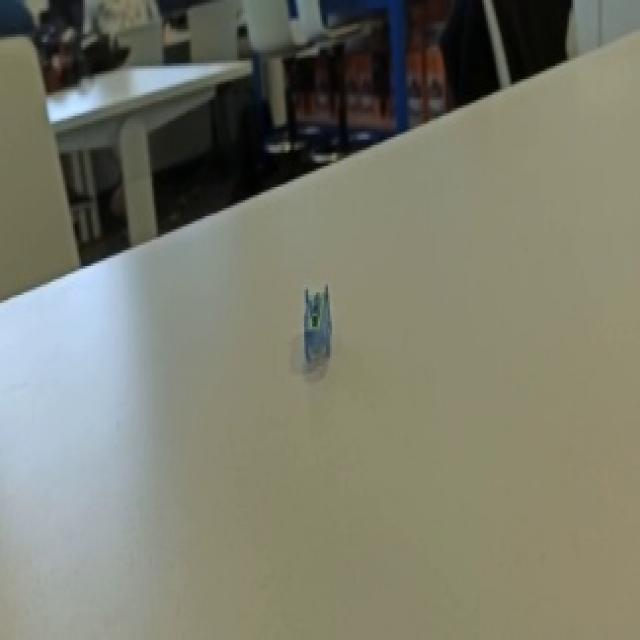3_NanoBug_Celeste: (286, 266, 360, 385)
